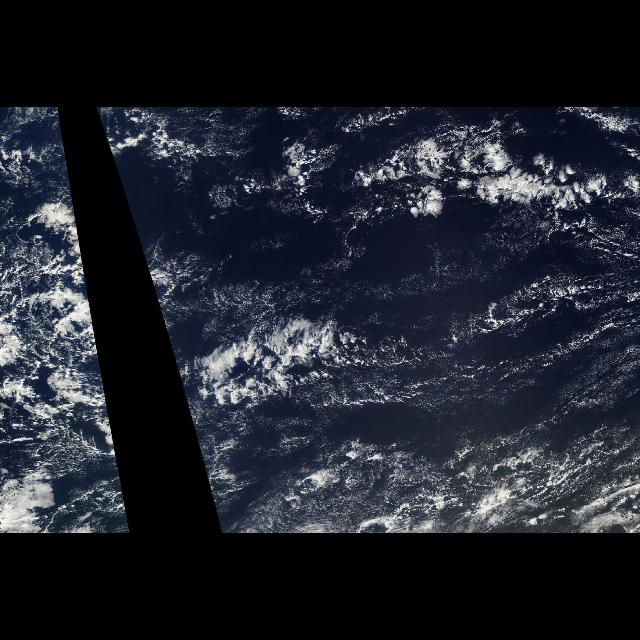Fish: (186, 310, 414, 412)
Sugar: (425, 236, 639, 438)
